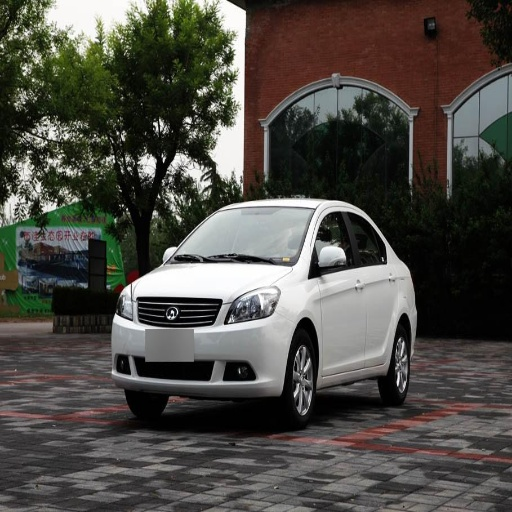front_bumper: (113, 294, 293, 397)
front_glass: (168, 208, 313, 266)
front_left_door: (313, 206, 365, 372)
